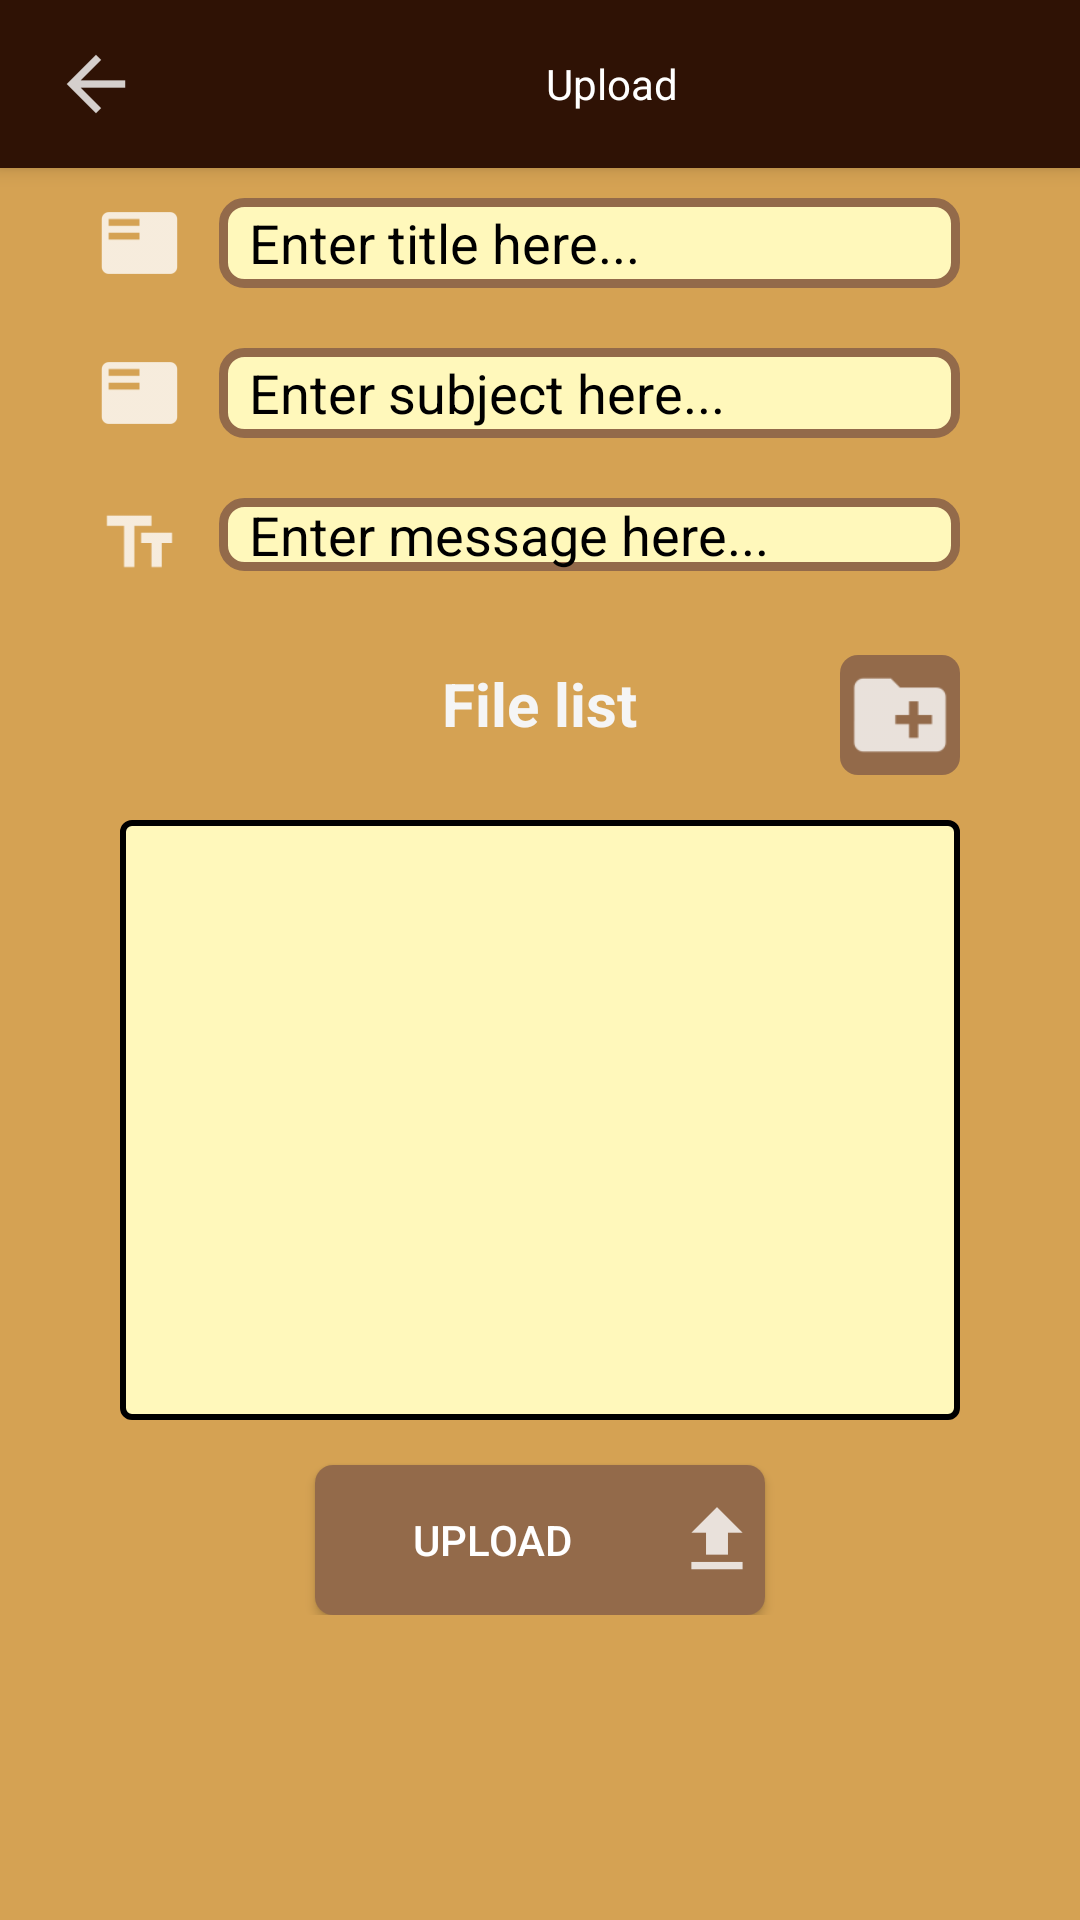

Named icons in this screenshot (1080w x 1920h) and their bounding boxes, (x1, y1, x2, y2):
back: (67, 55, 126, 113)
select file: (840, 655, 960, 775)
